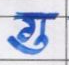u_matra: (9, 35, 50, 55)
